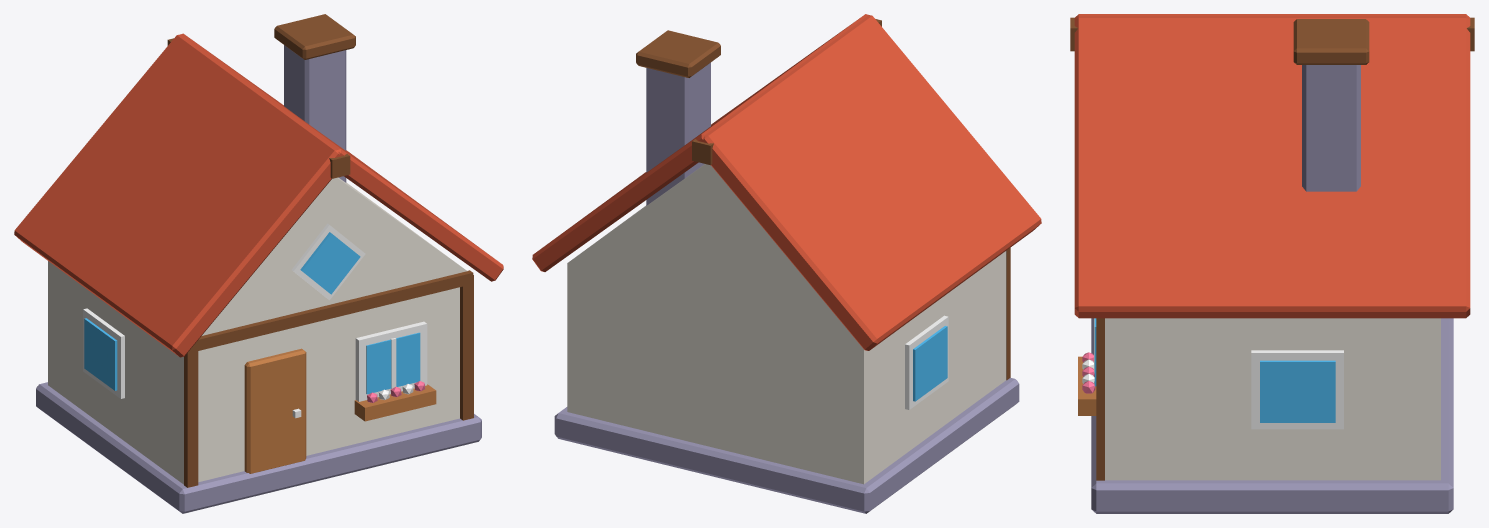
The model's file is cottage.glb.
3 views of the same model, side by side, from view 1: azimuth 30°, elevation 25°; view 2: azimuth 150°, elevation 25°; view 3: azimuth 270°, elevation 25° (orthographic). The views are drawn at different scales.
Parts seen in each view (by area): view 1: cottage; view 2: cottage; view 3: cottage.
Boxes of the visible parts, x1,y1,x2,y2 form: cottage: (14,14,503,513); cottage: (532,14,1041,513); cottage: (1070,14,1474,513).
Size of the model in its own units: 5.58 by 5.76 by 4.8.
